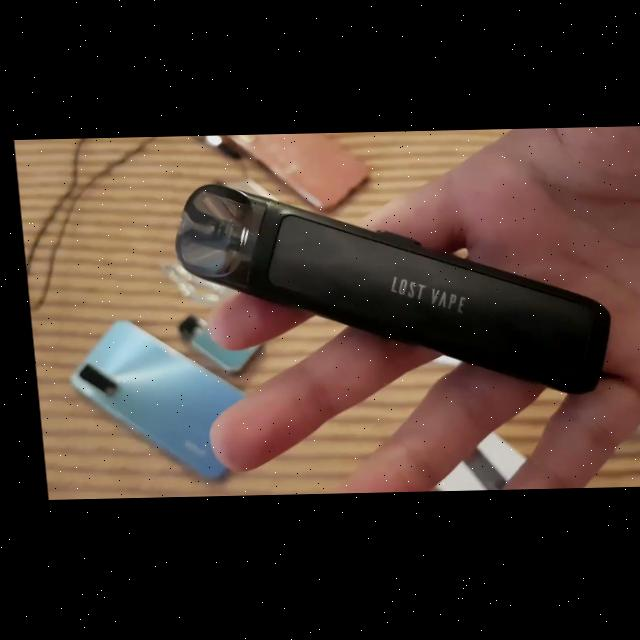vape: (166, 174, 611, 405)
